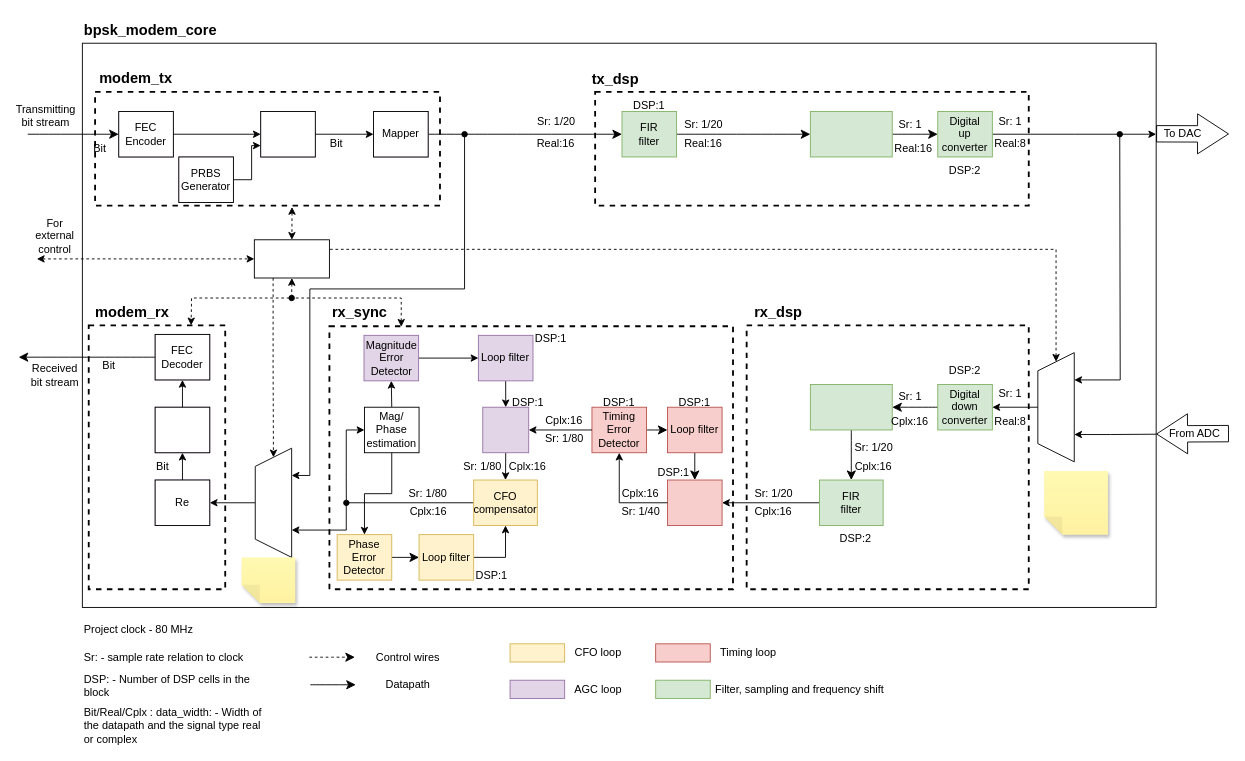
Some shapes in this 1245 by 761 pixel diagram are drawn without their labels. Each missing label, with the centre of its shape:
AGC: (505,429)
Baseband loopback: (269,581)
CIC downsampling filter: (850,407)
CIC upsampling filter: (850,134)
Deframer: (182,429)
DSP loopback: (1076,504)
Farrow filter: (694,502)
Framer: (287,134)
Modem Control: (291,258)
